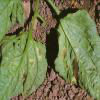Tomato mold leaf: (54, 10, 99, 94), (0, 33, 48, 96)
